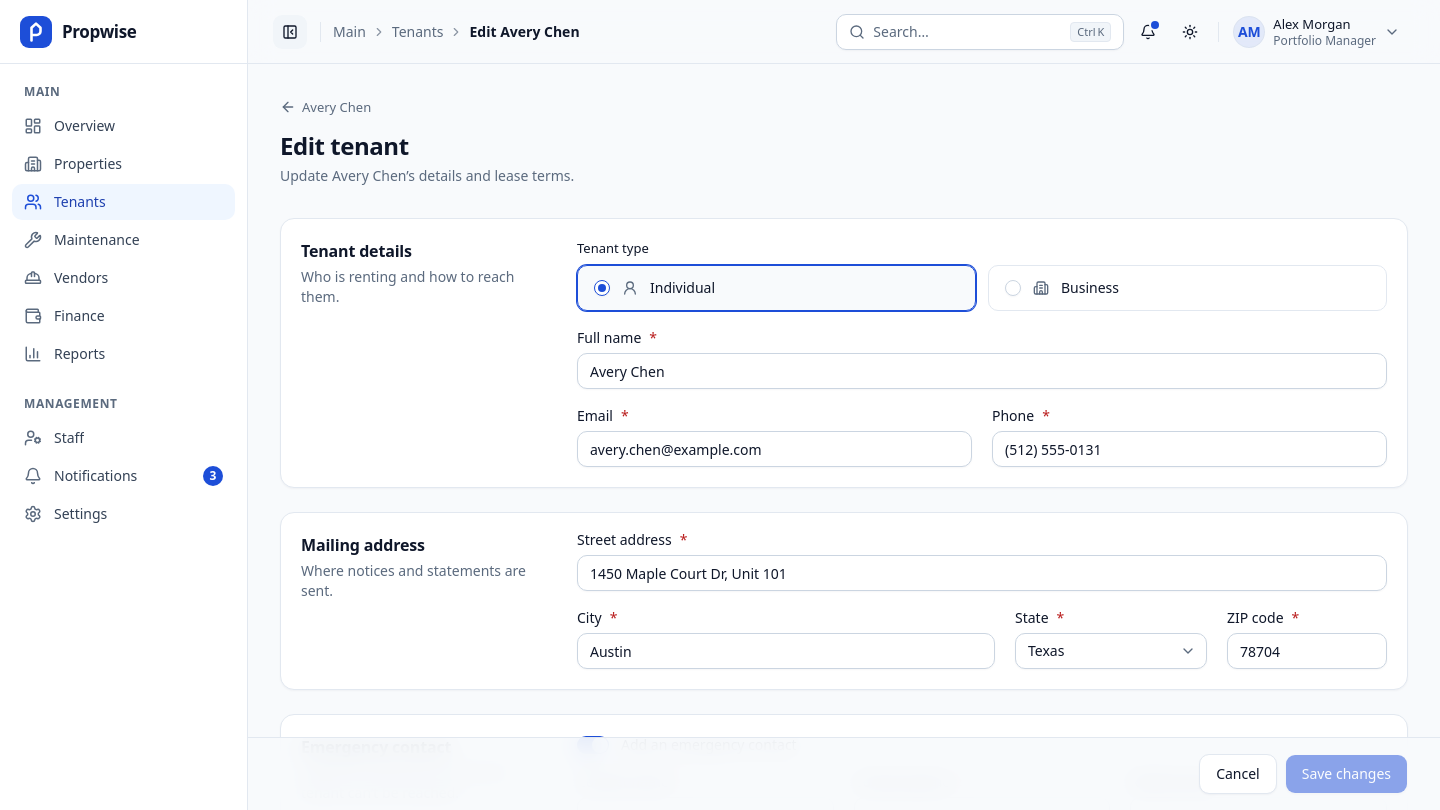
Scenario: Adding and editing tenants › keeps Save disabled until something changes, then saves
Expected: the heading "Edit tenant" is shown, [280,130,409,162]
Expected: the button "Save changes" is disabled, [1285,754,1408,794]
Replace the text in the field labelled "Phone *" with "(512) 555-0111". click: point(1190, 449)
box: [992,431,1387,467]
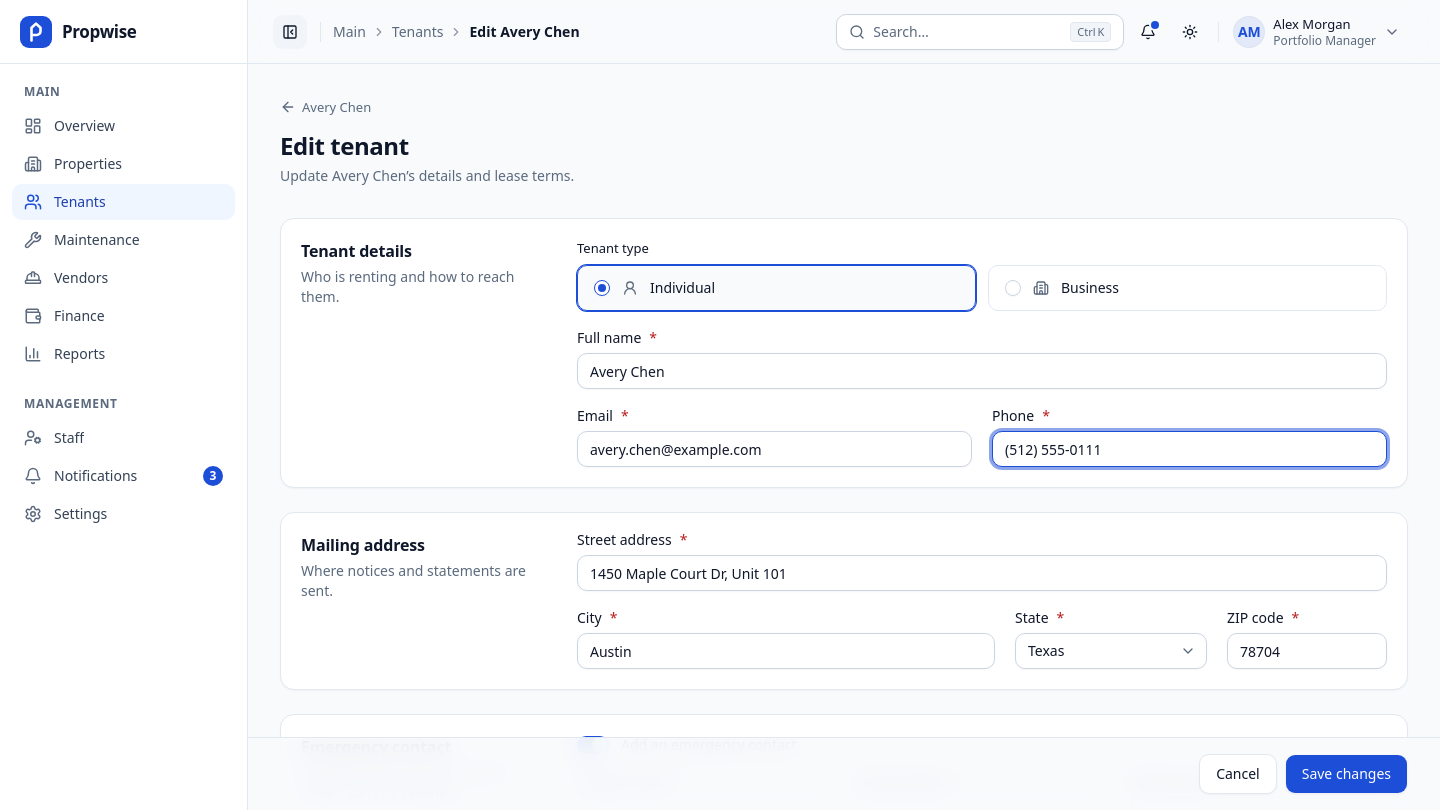
Expected: the button "Save changes" is enabled
Click the button "Save changes". click: point(1346, 774)
box: [1285,754,1408,794]
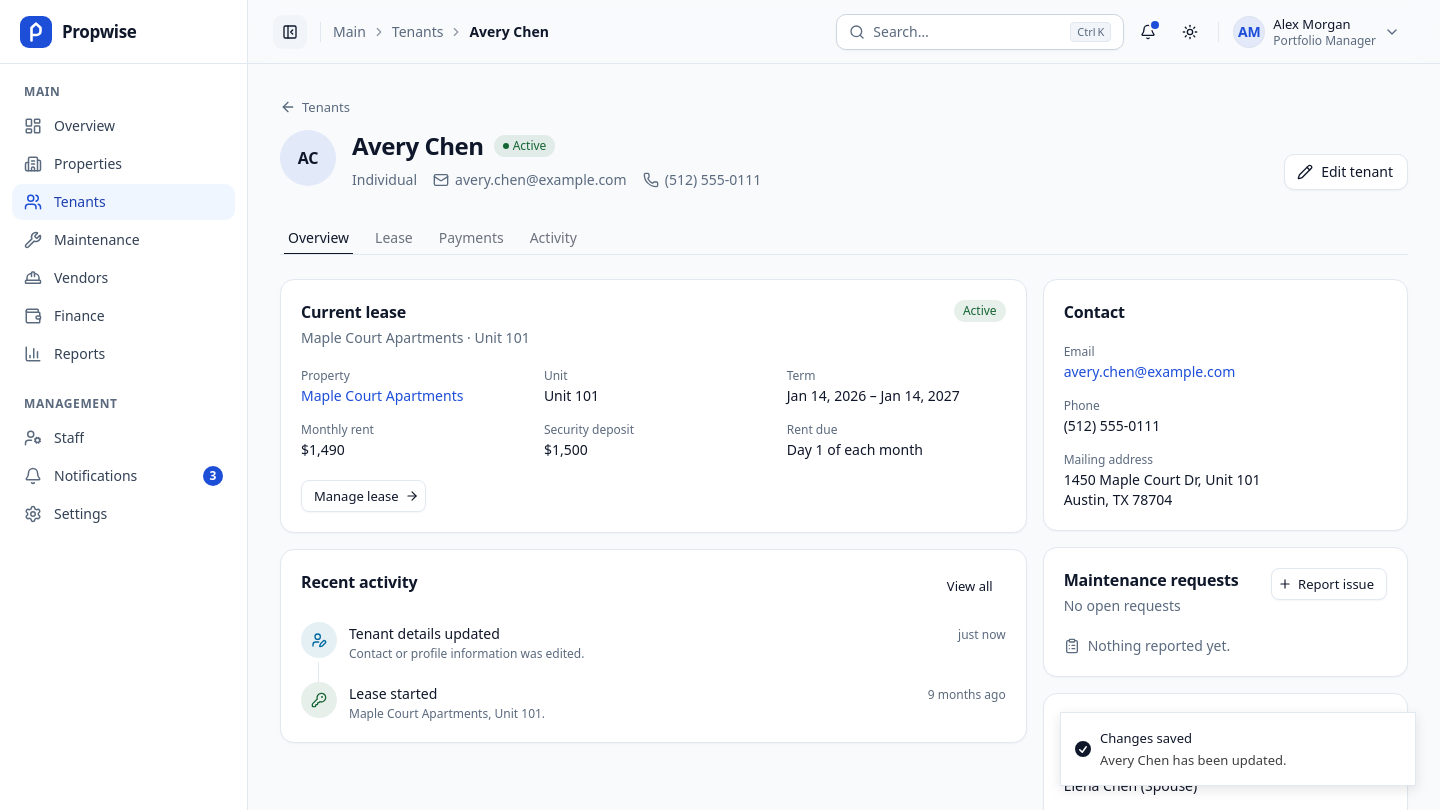
Expected: the text "Changes saved" is shown, [1100,729,1192,747]
